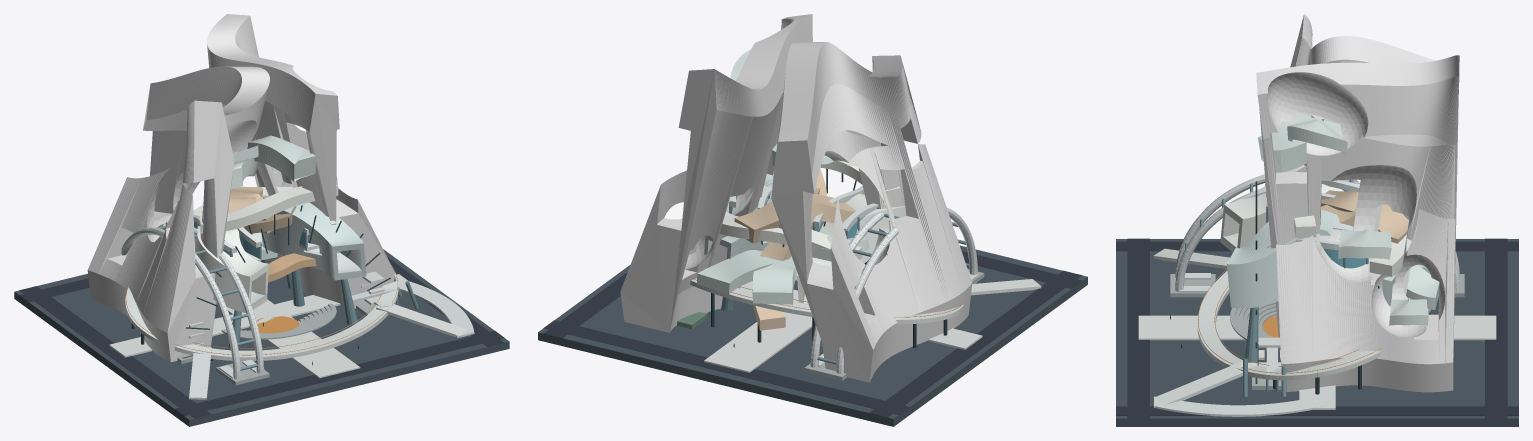
File: a15_a_split_tide_urban_shells.glb
The picture shows the model from 3 angles, left to right: view 1: azimuth 30°, elevation 25°; view 2: azimuth 150°, elevation 25°; view 3: azimuth 270°, elevation 25°; orthographic projection. The views are drawn at different scales.
Visible parts, largest first — view 1: A11_WEST_FAULT_ESCARPMENT_REAL_VOID, District base, A11_EAST_SKY_FOLD_REAL_VOID, A10_EAST_INHABITED_TIDAL_SHELL, Continuous elliptical public promenade, E-W road, A10_WEST_INHABITED_FAULT_SHELL, N-S road, Public ground, continuous E-W axis, A11_EAST_OCCUPIED_STRATUM_2, Public ground, continuous N-S axis, A11_HIGH_CREST_TRANSECT (+10 smaller); view 2: A11_WEST_FAULT_ESCARPMENT_REAL_VOID, A11_EAST_SKY_FOLD_REAL_VOID, District base, E-W road.001, N-S road, Public ground, continuous N-S axis, A11_EAST_OCCUPIED_STRATUM_0, A11_WEST_OCCUPIED_STRATUM_0, Continuous elliptical public promenade, A10_WEST_INHABITED_FAULT_SHELL, A11_LOW_FAULT_SKY_BOULEVARD, A11_CENTRAL_RISING_CIVIC_SPINE (+8 smaller); view 3: A11_EAST_SKY_FOLD_REAL_VOID, District base, A10_EAST_INHABITED_TIDAL_SHELL, E-W road.001, E-W road, Continuous elliptical public promenade, A11_WEST_FAULT_ESCARPMENT_REAL_VOID, Public ground, continuous N-S axis, N-S road.001, A7_APPROACH_CURVED_DECK, A10_WEST_INHABITED_FAULT_SHELL, A12_EAST_CROWN_OCULUS_EXPOSED_CIVIC_DECK (+15 smaller).
Part boxes in pixels (x1=…): A11_WEST_FAULT_ESCARPMENT_REAL_VOID: x1=87, y1=66, x2=269, y2=362; District base: x1=14, y1=249, x2=509, y2=426; A11_EAST_SKY_FOLD_REAL_VOID: x1=207, y1=14, x2=394, y2=308; A10_EAST_INHABITED_TIDAL_SHELL: x1=261, y1=202, x2=366, y2=280; Continuous elliptical public promenade: x1=125, y1=273, x2=398, y2=361; E-W road: x1=175, y1=330, x2=504, y2=416; A10_WEST_INHABITED_FAULT_SHELL: x1=194, y1=226, x2=268, y2=312; N-S road: x1=19, y1=286, x2=211, y2=418; Public ground, continuous E-W axis: x1=109, y1=274, x2=407, y2=357; A11_EAST_OCCUPIED_STRATUM_2: x1=247, y1=135, x2=315, y2=181; Public ground, continuous N-S axis: x1=216, y1=299, x2=360, y2=378; A11_HIGH_CREST_TRANSECT: x1=200, y1=185, x2=338, y2=233; A11_WEST_FAULT_ESCARPMENT_REAL_VOID: x1=771, y1=42, x2=972, y2=382; A11_EAST_SKY_FOLD_REAL_VOID: x1=620, y1=14, x2=812, y2=332; District base: x1=538, y1=245, x2=1087, y2=426; E-W road.001: x1=543, y1=320, x2=909, y2=414; N-S road: x1=869, y1=270, x2=1081, y2=417; Public ground, continuous N-S axis: x1=704, y1=312, x2=812, y2=372; A11_EAST_OCCUPIED_STRATUM_0: x1=696, y1=250, x2=774, y2=294; A11_WEST_OCCUPIED_STRATUM_0: x1=752, y1=256, x2=797, y2=304; Continuous elliptical public promenade: x1=690, y1=278, x2=964, y2=324; A10_WEST_INHABITED_FAULT_SHELL: x1=797, y1=193, x2=906, y2=303; A11_LOW_FAULT_SKY_BOULEVARD: x1=719, y1=212, x2=862, y2=259; A11_CENTRAL_RISING_CIVIC_SPINE: x1=752, y1=169, x2=826, y2=330; A11_EAST_SKY_FOLD_REAL_VOID: x1=1256, y1=55, x2=1459, y2=392; District base: x1=1116, y1=239, x2=1518, y2=426; A10_EAST_INHABITED_TIDAL_SHELL: x1=1227, y1=210, x2=1395, y2=308; E-W road.001: x1=1485, y1=238, x2=1507, y2=418; E-W road: x1=1127, y1=238, x2=1149, y2=418; Continuous elliptical public promenade: x1=1197, y1=271, x2=1430, y2=380; A11_WEST_FAULT_ESCARPMENT_REAL_VOID: x1=1264, y1=14, x2=1455, y2=262; Public ground, continuous N-S axis: x1=1138, y1=315, x2=1496, y2=340; N-S road.001: x1=1116, y1=406, x2=1518, y2=415; A7_APPROACH_CURVED_DECK: x1=1154, y1=396, x2=1324, y2=416; A10_WEST_INHABITED_FAULT_SHELL: x1=1220, y1=184, x2=1343, y2=252; A12_EAST_CROWN_OCULUS_EXPOSED_CIVIC_DECK: x1=1287, y1=112, x2=1347, y2=154.
Bounding box in the file's own units: 188 × 145 × 178.
